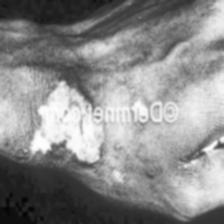Non-Cancerous Skin Condition: (10, 125, 108, 161), (28, 68, 106, 102)
